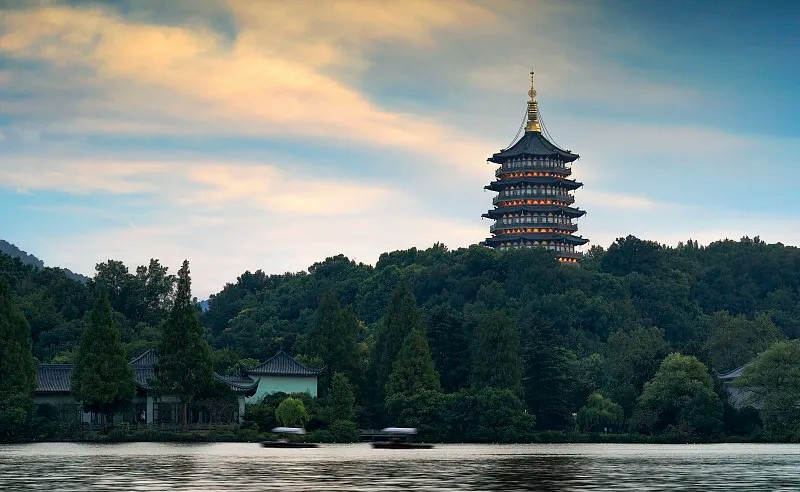Leifeng: (479, 67, 588, 268)
